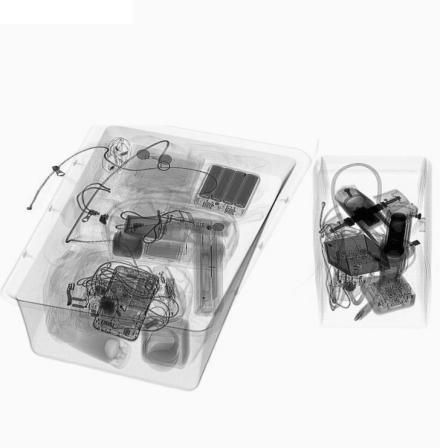Powerbank: (192, 161, 264, 219)
